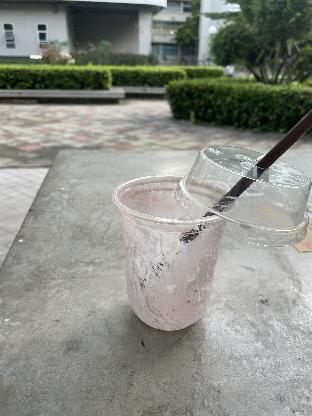Plastic Cup: (114, 168, 214, 340), (178, 140, 312, 252)
